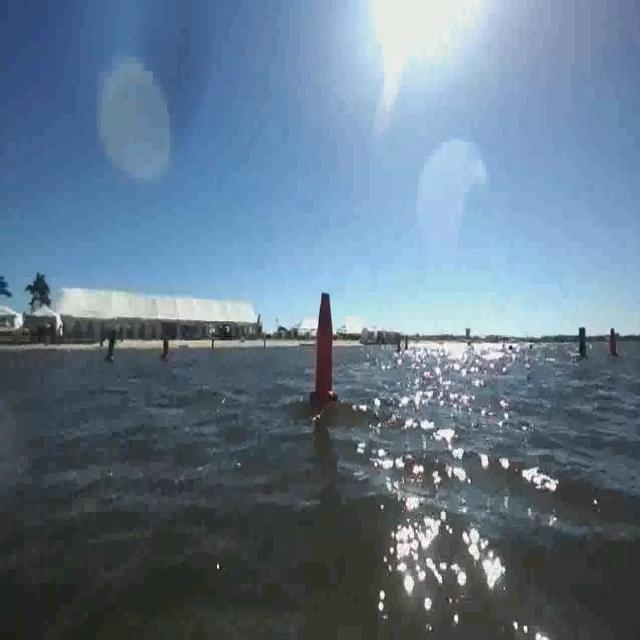green-column-buoy: (105, 329, 119, 363), (575, 326, 588, 362)
red-column-buoy: (310, 288, 338, 406), (608, 328, 620, 359), (163, 339, 172, 361)
